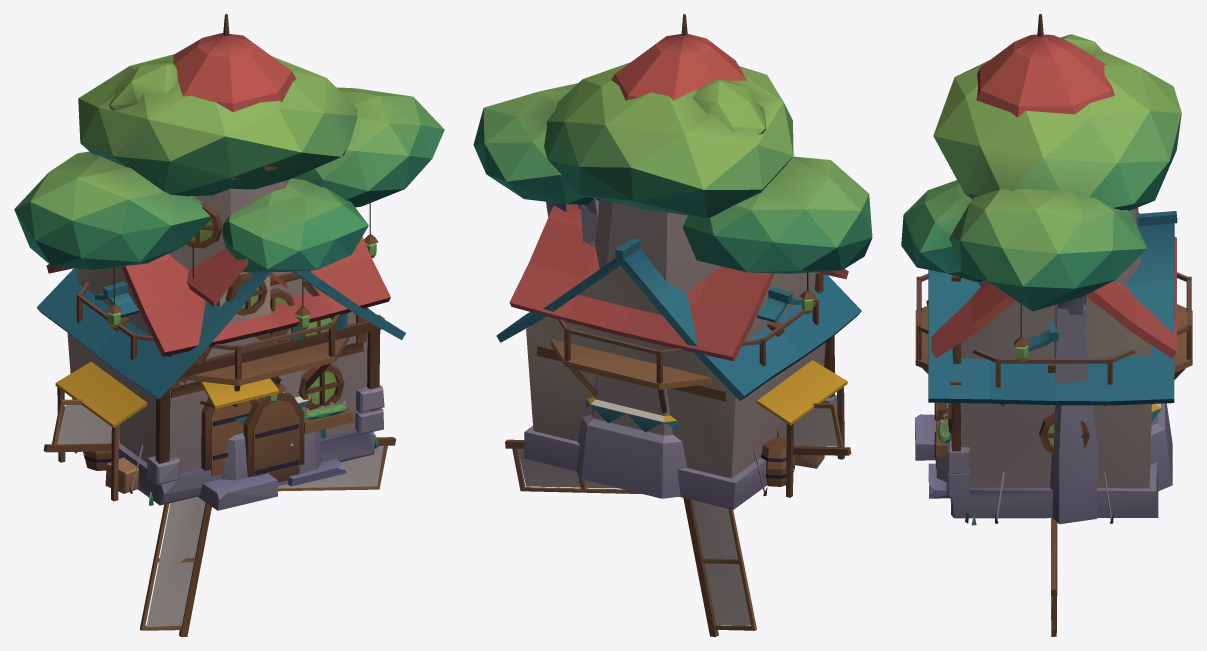
The model's file is env_hub.glb.
The picture shows the model from 3 angles, left to right: view 1: azimuth 30°, elevation 25°; view 2: azimuth 150°, elevation 25°; view 3: azimuth 270°, elevation 25°; orthographic projection. The views are drawn at different scales.
Parts seen in each view (by area): view 1: lantern_tree, cottage_a, cottage_b, windmill, windmill_blades, gate; view 2: lantern_tree, cottage_a, windmill, cottage_b, windmill_blades, tent, gate; view 3: lantern_tree, cottage_a, cottage_b, windmill, windmill_blades, gate.
Part boxes in pixels (left/top/right/bottom): lantern_tree: left=14, top=54, right=444, bottom=330; cottage_a: left=36, top=268, right=405, bottom=510; cottage_b: left=46, top=237, right=390, bottom=501; windmill: left=76, top=14, right=349, bottom=486; windmill_blades: left=43, top=399, right=395, bottom=636; gate: left=94, top=281, right=139, bottom=332; lantern_tree: left=473, top=62, right=872, bottom=314; cottage_a: left=496, top=198, right=861, bottom=509; windmill: left=550, top=14, right=818, bottom=498; cottage_b: left=509, top=201, right=848, bottom=497; windmill_blades: left=505, top=403, right=851, bottom=636; tent: left=586, top=397, right=767, bottom=496; gate: left=757, top=286, right=801, bottom=336; lantern_tree: left=901, top=34, right=1181, bottom=362; cottage_a: left=915, top=211, right=1177, bottom=525; cottage_b: left=928, top=213, right=1176, bottom=524; windmill: left=915, top=14, right=1192, bottom=491; windmill_blades: left=1051, top=518, right=1057, bottom=636; gate: left=1026, top=321, right=1058, bottom=372.
Size of the model in its own units: 8.79 by 12.93 by 5.34.
